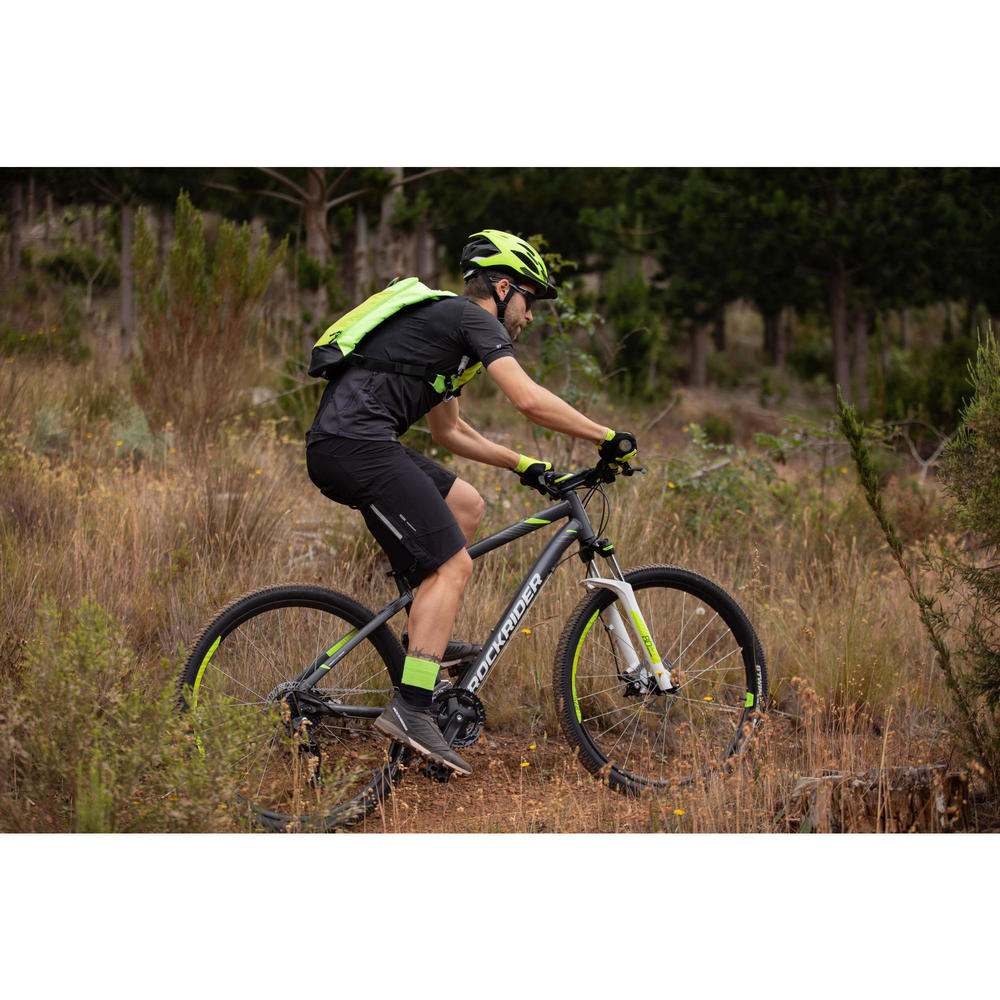MountainBike: (189, 444, 788, 812)
